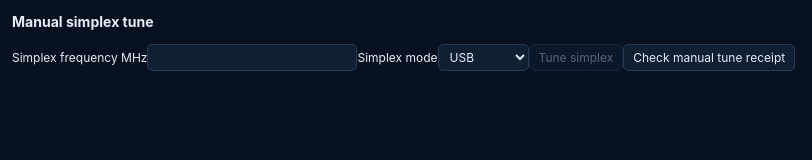
clears stale receipt and review errors after verified tune recovery
Click the button "Check manual tune receipt": (709,58) [623,44,795,71]
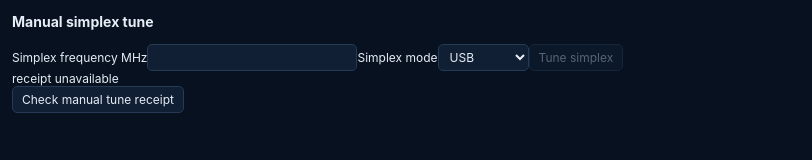
Expected: the message reads "receipt unavailable", [12,71,119,86]
Click the button "Check manual tune receipt": (98,100) [12,86,184,113]
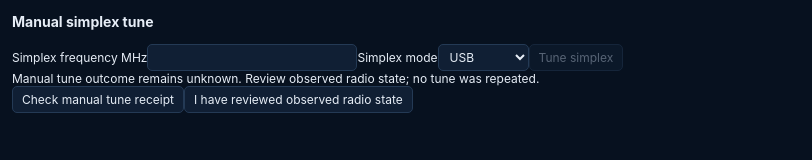
Click the button "I have reviewed observed radio state": (298,100) [184,86,413,113]
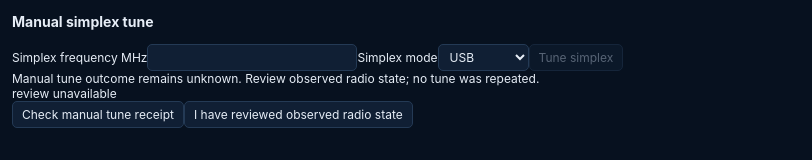
Expected: the message "review unavailable" is shown, [12,86,117,101]
Click the button "I have reviewed observed radio state": (298,115) [184,101,413,128]
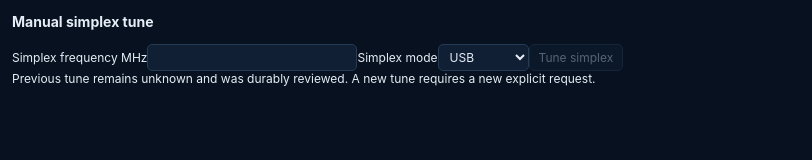
Expected: the message "review unavailable" is gone
